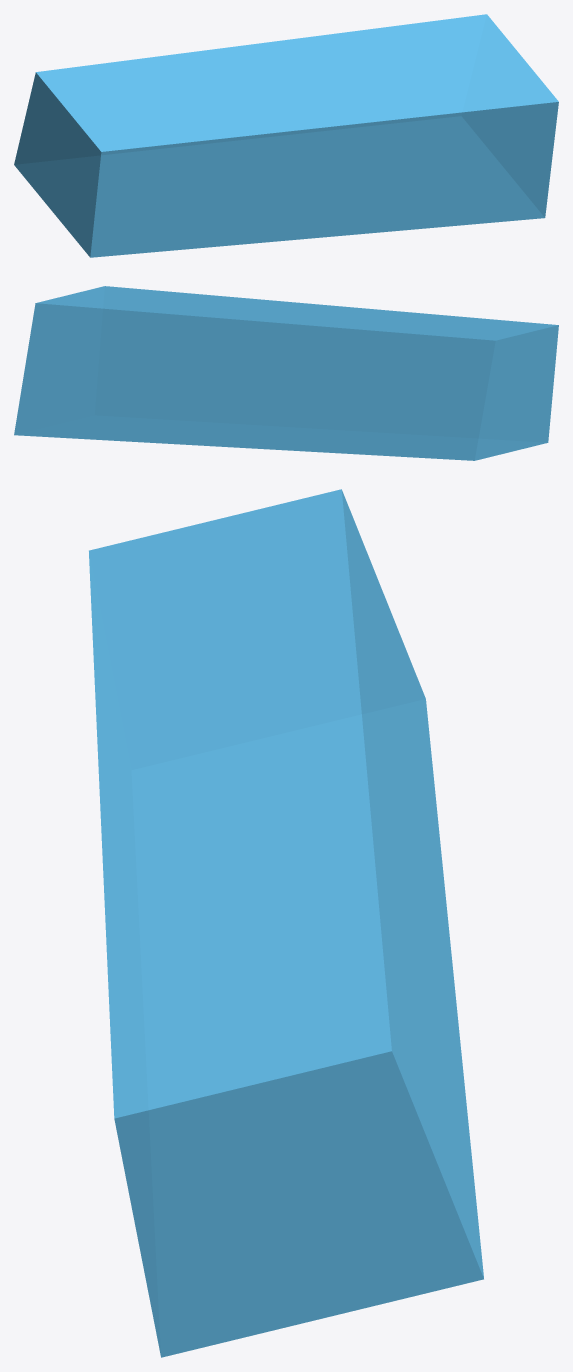
File: Event_421115418_HErechit_64.fbx
3 views of the same model, one above another, from view 1: azimuth 30°, elevation 25°; view 2: azimuth 150°, elevation 25°; view 3: azimuth 270°, elevation 25° (orthographic). The views are drawn at different scales.
Visible parts, largest first — view 1: Model; view 2: Model; view 3: Model.
Boxes of the visible parts, <box> form: Model: <box>14,14,558,257</box>; Model: <box>14,286,558,460</box>; Model: <box>89,489,483,1357</box>.
Bounding box in the file's own units: 0.9942 × 0.4596 × 0.3802.
